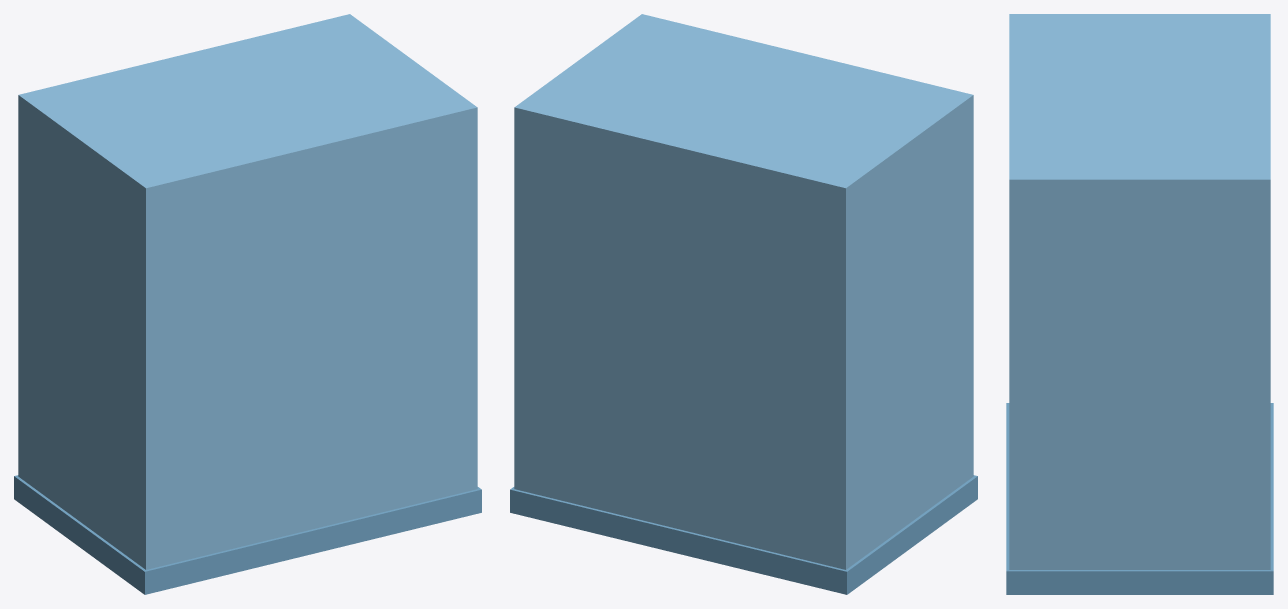
Rendered from cirurgiao_saia.glb.
3 renders of one model, left to right at view 1: azimuth 30°, elevation 25°; view 2: azimuth 150°, elevation 25°; view 3: azimuth 270°, elevation 25°, orthographic. The views are drawn at different scales.
Visible parts, largest first — view 1: cirurgiao_saia; view 2: cirurgiao_saia; view 3: cirurgiao_saia.
Boxes of the visible parts, x1,y1,x2,y2 form: cirurgiao_saia: [14, 14, 481, 594]; cirurgiao_saia: [510, 14, 977, 594]; cirurgiao_saia: [1006, 14, 1273, 594].
Size of the model in its own units: 0.61 by 0.7 by 0.41.
